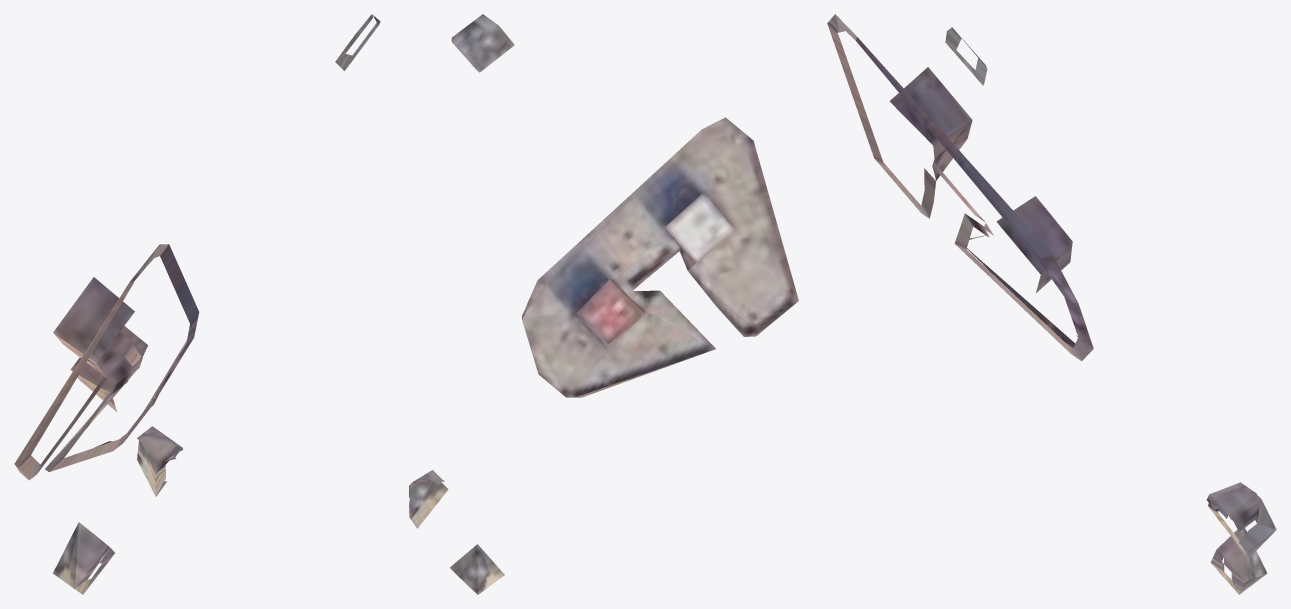
3 renders of one model, left to right at view 1: azimuth 30°, elevation 25°; view 2: azimuth 150°, elevation 25°; view 3: azimuth 270°, elevation 25°, orthographic. The views are drawn at different scales.
Bounding box in the file's own units: 55.44 × 82.29 × 52.86.
Materials: 1 (1 with a texture image).
